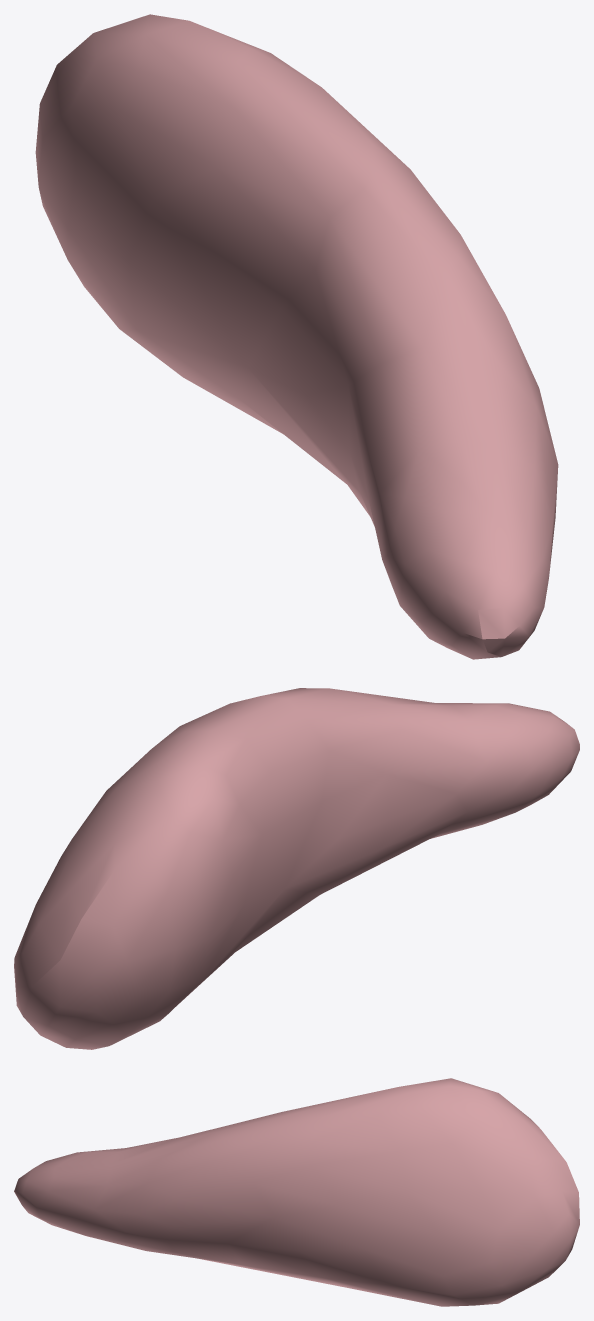
The model's file is fma59554_mm2112.glb.
The picture shows the model from 3 angles, top to bottom: view 1: azimuth 30°, elevation 25°; view 2: azimuth 150°, elevation 25°; view 3: azimuth 270°, elevation 25°; orthographic projection. The views are drawn at different scales.
Visible parts, largest first — view 1: FMA59554_MM2112; view 2: FMA59554_MM2112; view 3: FMA59554_MM2112.
Part boxes in pixels (left/top/right/bottom): FMA59554_MM2112: left=35, top=14, right=558, bottom=659; FMA59554_MM2112: left=14, top=688, right=579, bottom=1049; FMA59554_MM2112: left=14, top=1078, right=579, bottom=1306.
Size of the model in its own units: 0.00657 by 0.00791 by 0.0204.
